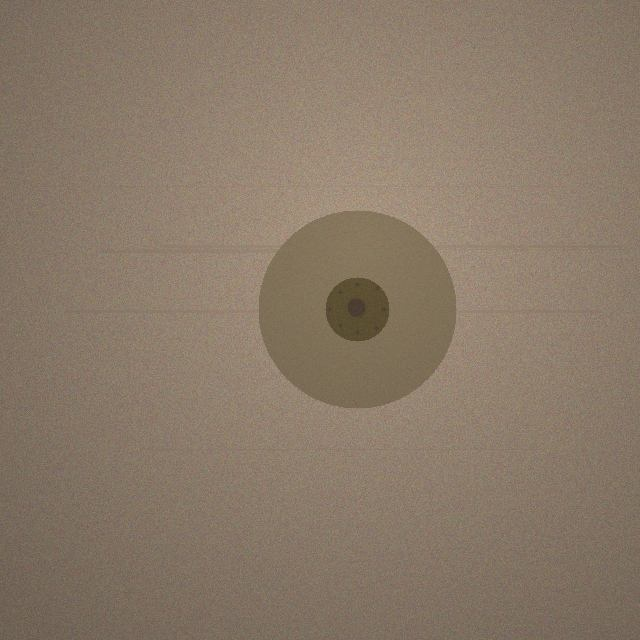cold_weld: (258, 210, 456, 408)
